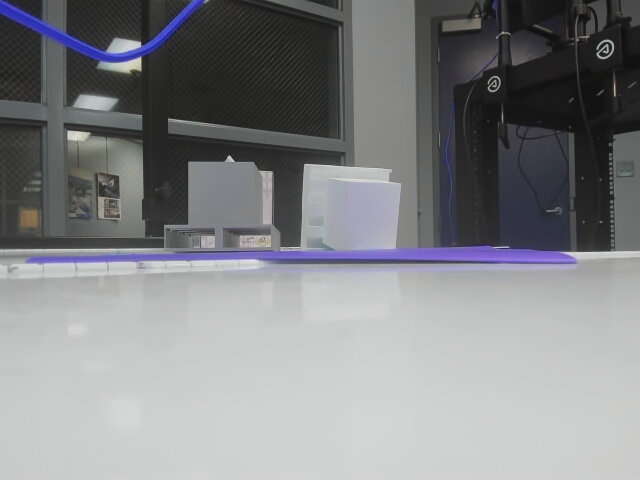grey pallet: (161, 152, 283, 258)
white pallet: (287, 161, 404, 251)
